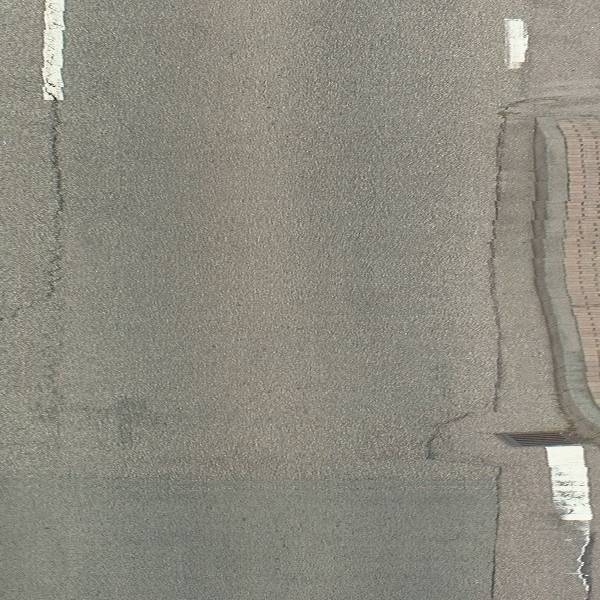road_damage: (417, 396, 504, 476), (40, 96, 71, 291)
